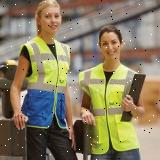Vest: (78, 64, 142, 154), (20, 35, 71, 129)
